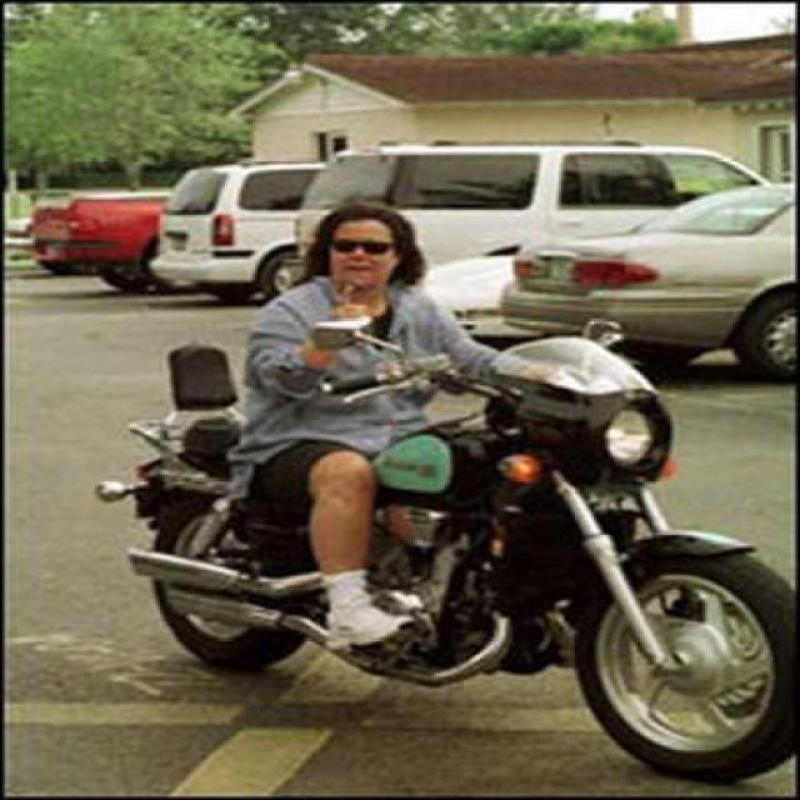nohelmet: (274, 200, 422, 304)
